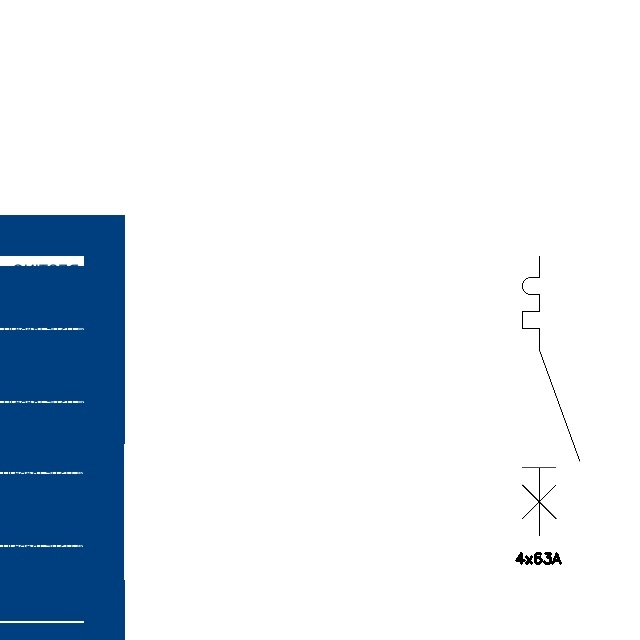interruptor_termomagnetico: (515, 249, 587, 543)
